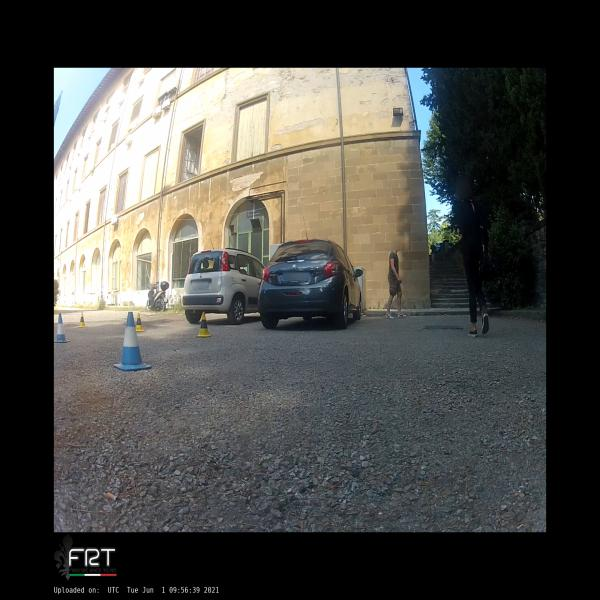blue_cone: (113, 312, 152, 371), (54, 313, 70, 343)
yellow_cone: (196, 312, 212, 337), (136, 313, 145, 332), (78, 311, 87, 328)
